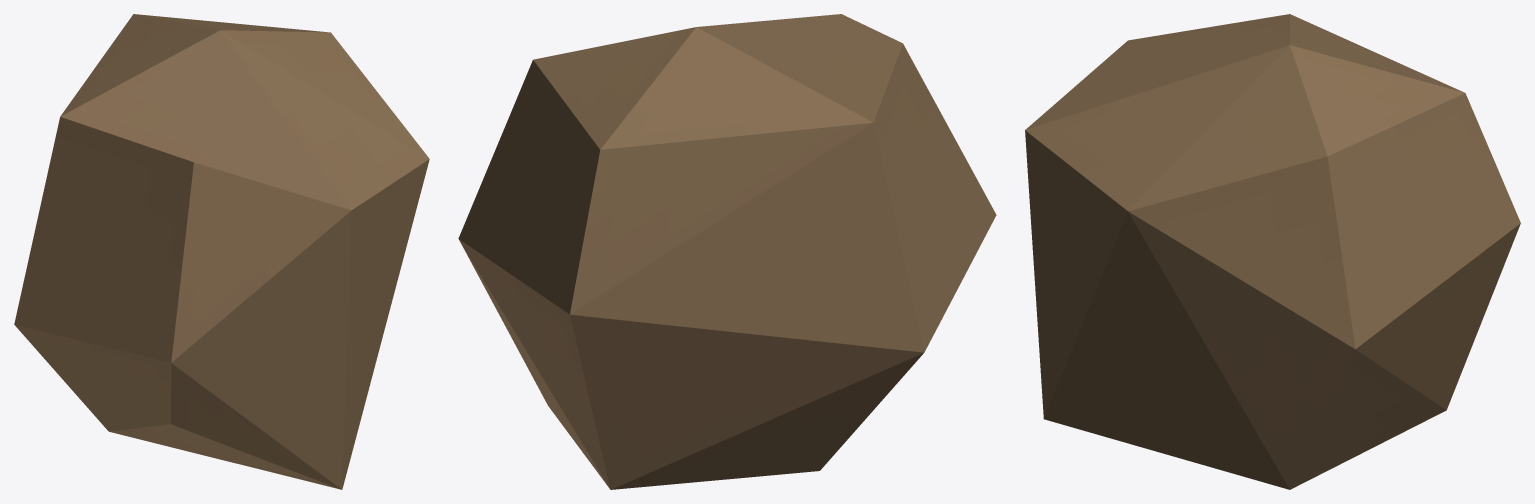
Rendered from Rock-A02.fbx.
3 renders of one model, left to right at view 1: azimuth 30°, elevation 25°; view 2: azimuth 150°, elevation 25°; view 3: azimuth 270°, elevation 25°, orthographic. The views are drawn at different scales.
Parts seen in each view (by area): view 1: Rock-A02; view 2: Rock-A02; view 3: Rock-A02.
Boxes of the visible parts, left/top/right/bottom form: Rock-A02: left=14, top=14, right=429, bottom=489; Rock-A02: left=458, top=14, right=996, bottom=489; Rock-A02: left=1025, top=14, right=1520, bottom=489.
Size of the model in its own units: 52.8 by 48.66 by 57.74.
